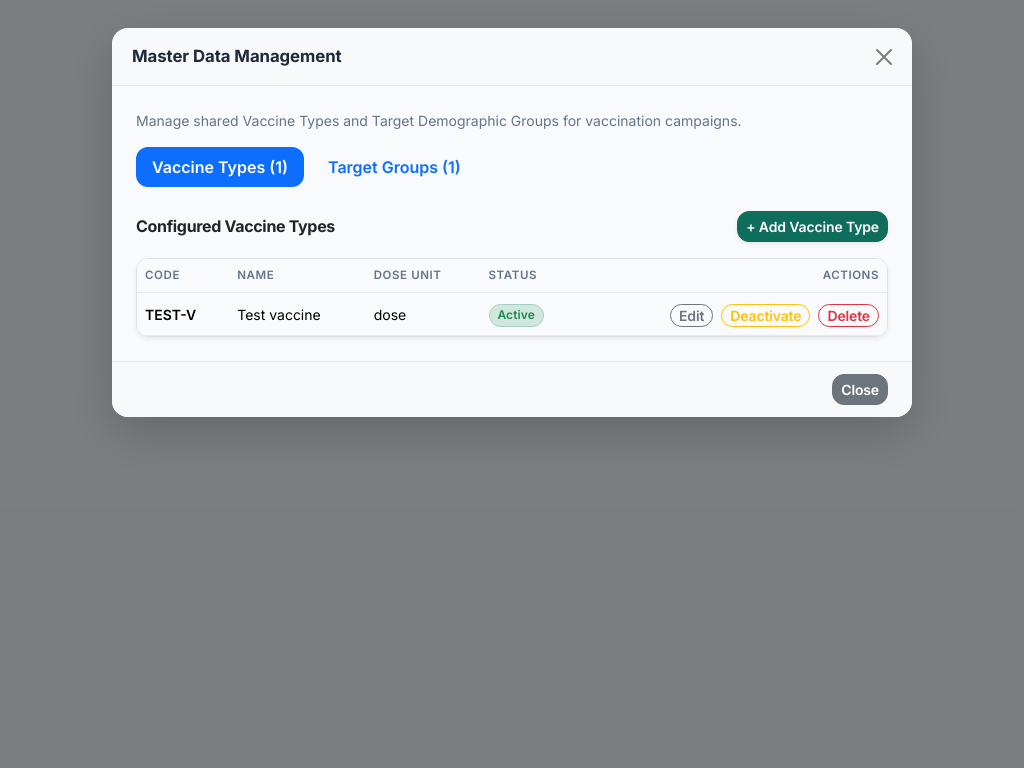
Test case: group deletion › removes the row, updates the count and clears its edit form
This screenshot has width=1024, height=768.
Expected: the text "TEST-V" is shown, [137, 293, 229, 335]
Click the button "Target Groups (1)" at (394, 167), box [312, 147, 477, 187]
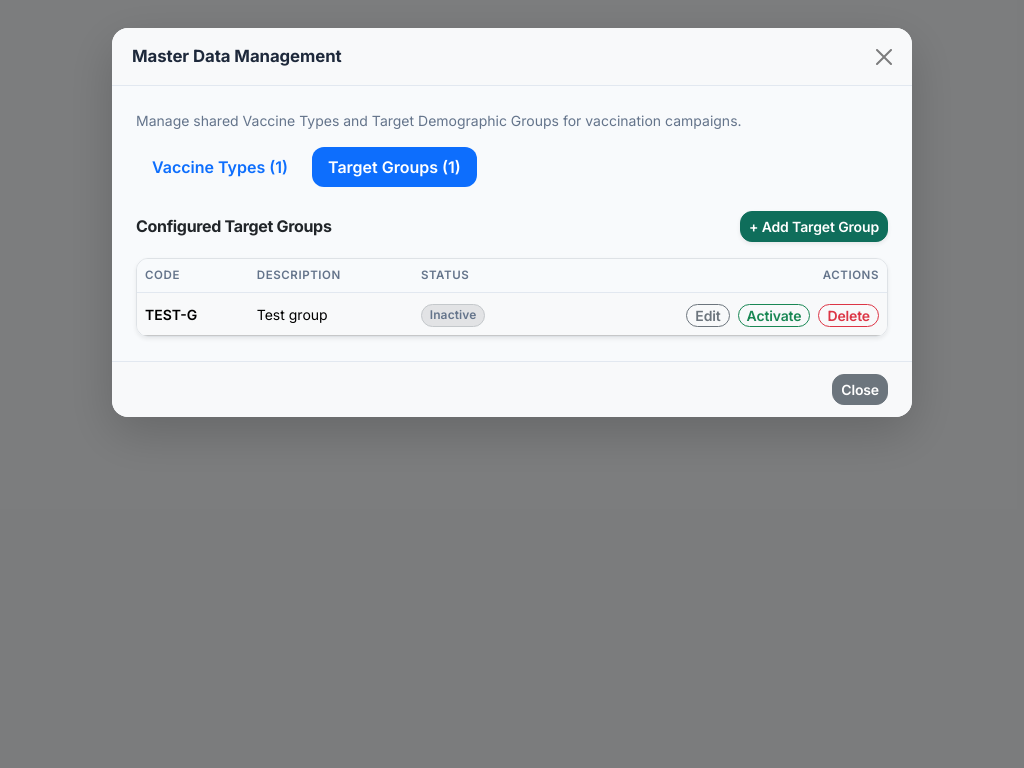
Click the button "Edit" at (708, 315), box [686, 304, 730, 327]
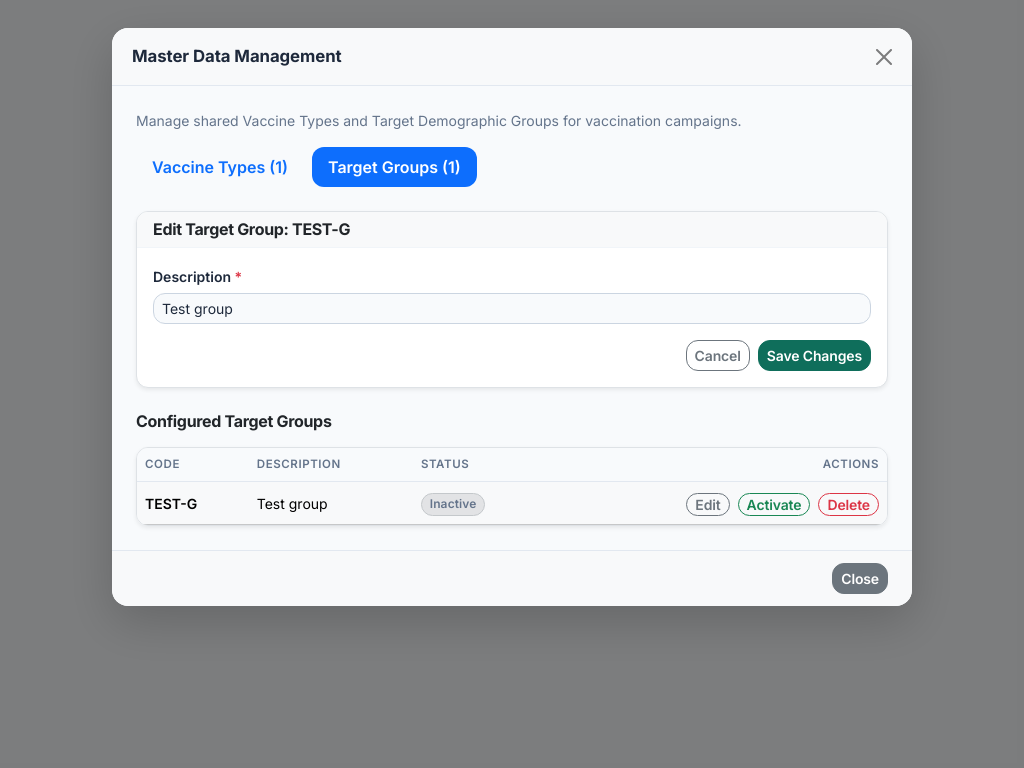
Click the button "Delete" at (849, 504), box [818, 493, 879, 516]
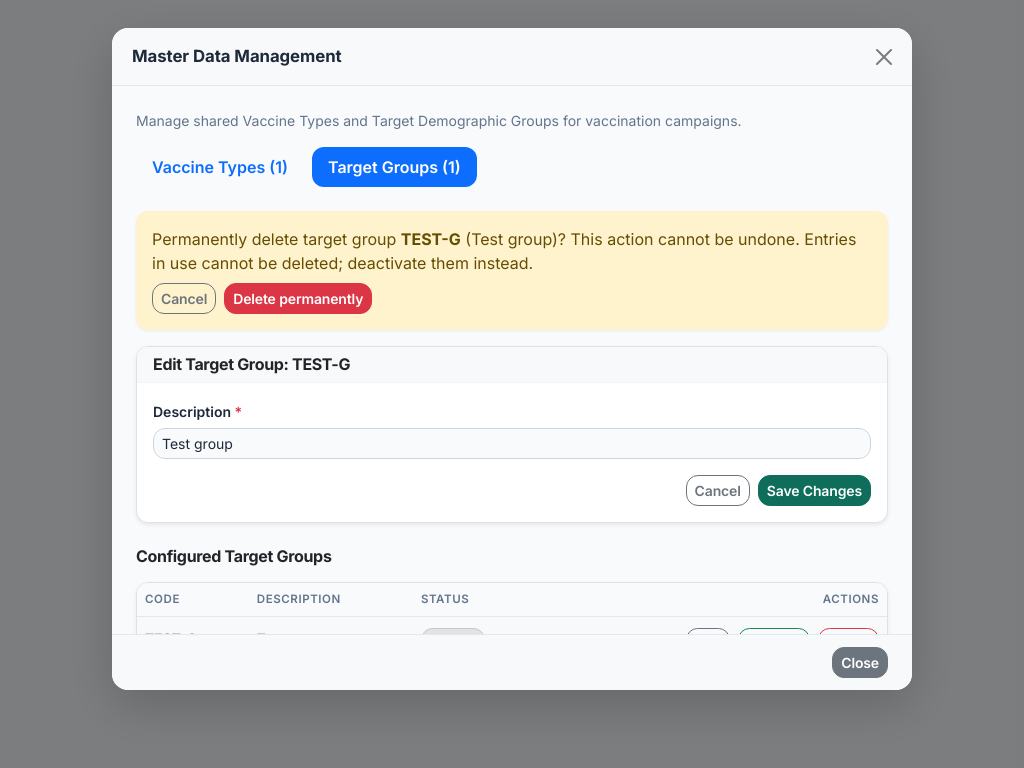
Click the button "Delete permanently" at (298, 299), box [224, 283, 372, 314]
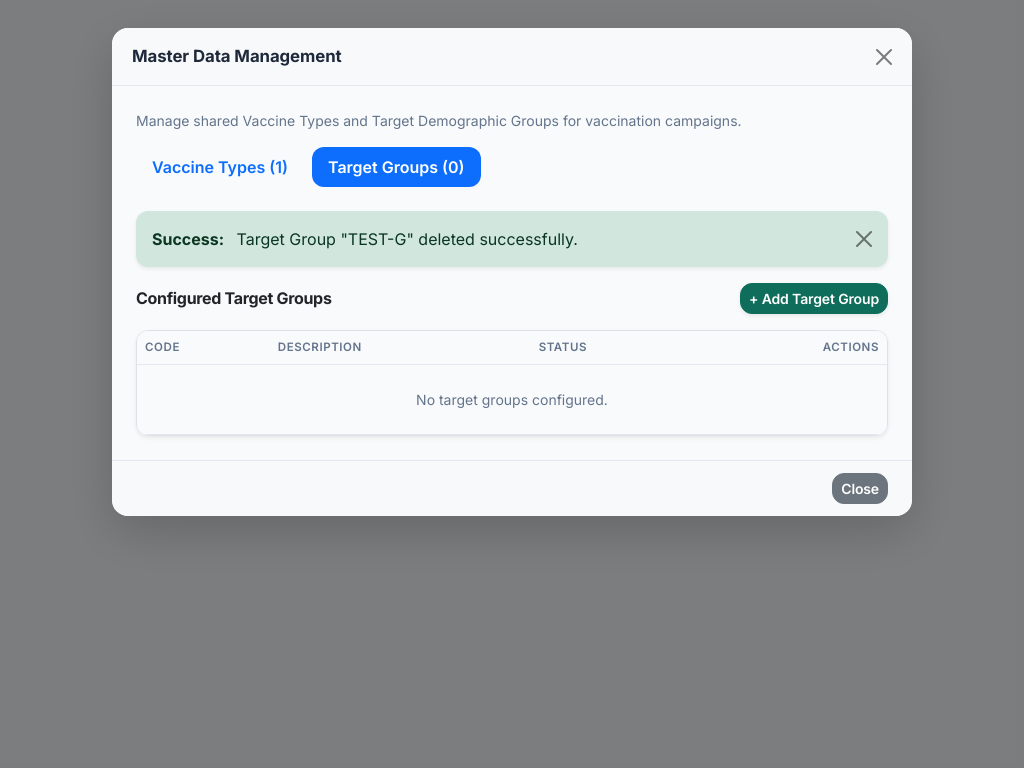
Expected: the text "Success: Target Group \"TEST-G\" deleted successfully." is shown, [136, 211, 888, 267]
Expected: the button "Save Changes" is gone
Expected: the text "No target groups configured." is shown, [137, 365, 887, 435]
